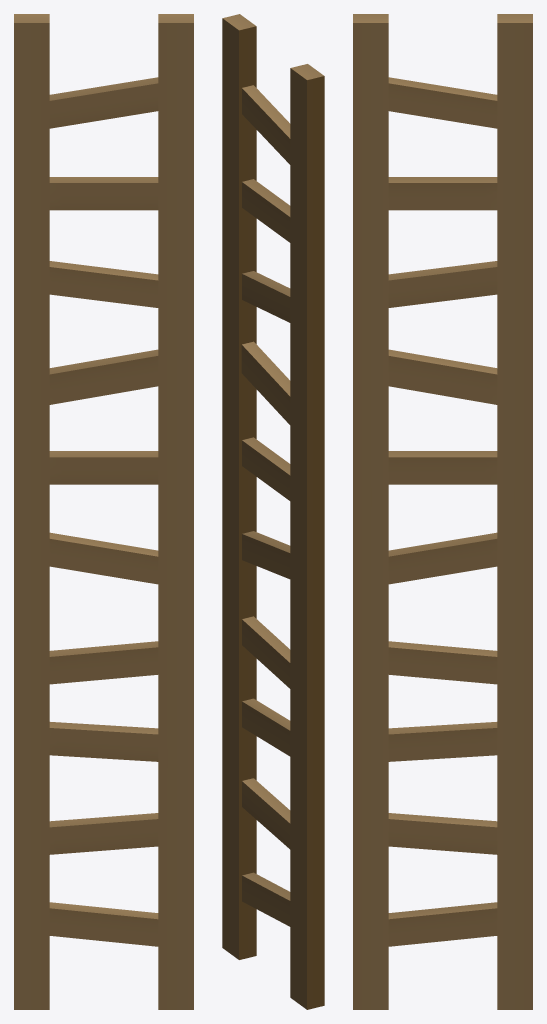
Rendered from Ladder_SM.fbx.
3 renders of one model, left to right at view 1: azimuth 90°, elevation 25°; view 2: azimuth 210°, elevation 25°; view 3: azimuth 270°, elevation 25°, orthographic. The views are drawn at different scales.
Visible parts, largest first — view 1: Ladder_SM; view 2: Ladder_SM; view 3: Ladder_SM.
Boxes of the visible parts, bbox=[...] form: Ladder_SM: bbox=[14, 14, 193, 1009]; Ladder_SM: bbox=[222, 14, 324, 1009]; Ladder_SM: bbox=[353, 14, 532, 1009].
Size of the model in its own units: 8.02 by 411 by 67.79.
